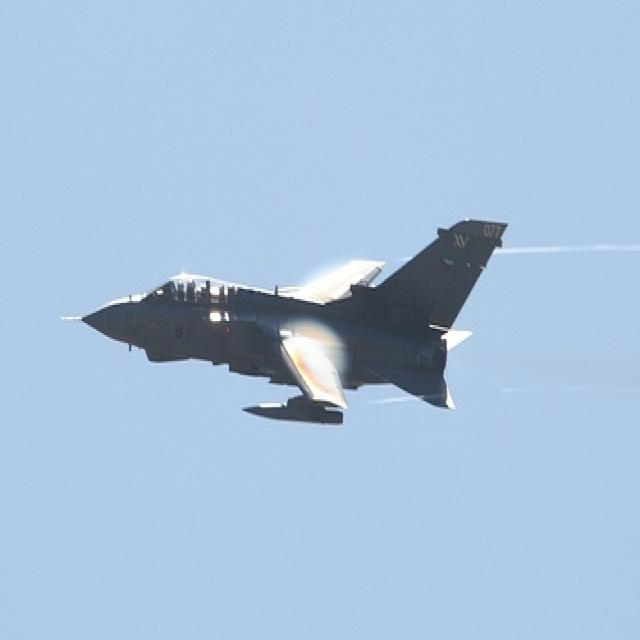aeroplane: (60, 216, 509, 426)
